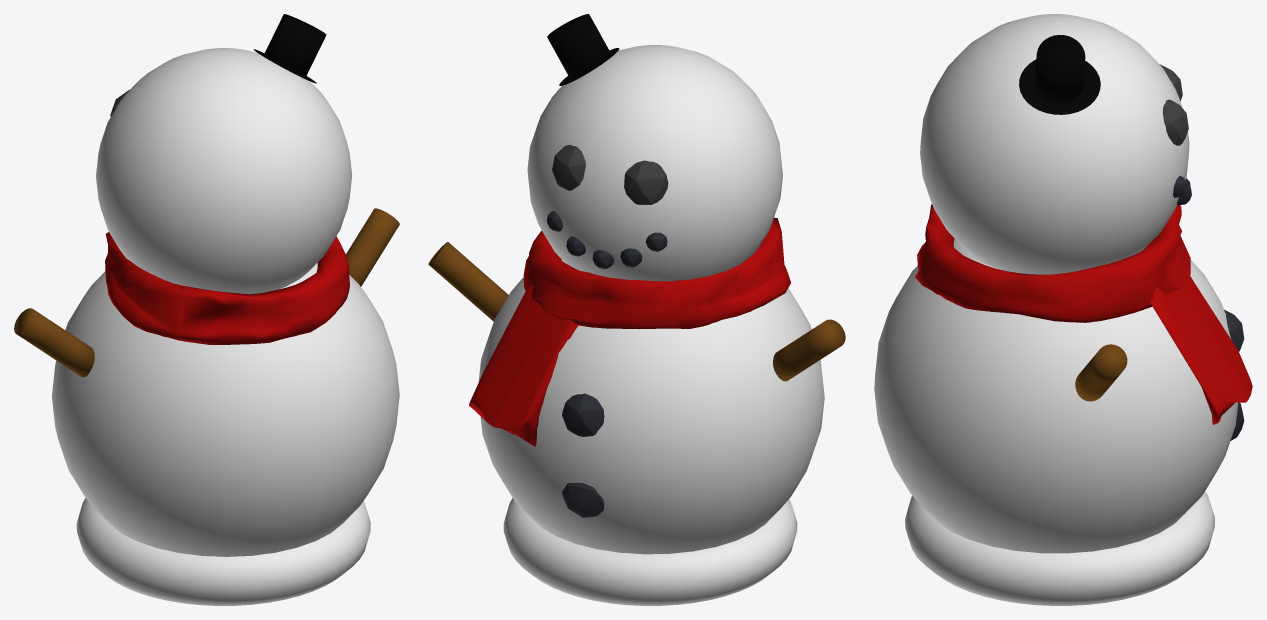
Rendered from snowman_amanda_losneck.glb.
3 views of the same model, side by side, from view 1: azimuth 30°, elevation 25°; view 2: azimuth 150°, elevation 25°; view 3: azimuth 270°, elevation 25° (orthographic). The views are drawn at different scales.
Visible parts, largest first — view 1: body, head, base, scarf, arm, hat; view 2: body, head, scarf, base, arm, eyes, buttons, hat, mouth.001, mouth; view 3: body, head, scarf, base, hat, arm, hat rim, eyes, buttons.
Part boxes in pixels (x1,y1,x2,y2): body: (52, 263, 399, 556); head: (96, 48, 352, 294); base: (76, 498, 370, 605); scarf: (105, 232, 349, 344); arm: (14, 208, 399, 377); hat: (264, 14, 326, 76); body: (478, 259, 824, 554); head: (527, 45, 782, 281); scarf: (469, 217, 790, 446); base: (503, 498, 797, 605); arm: (428, 242, 845, 381); eyes: (552, 145, 668, 204); buttons: (562, 393, 604, 517); hat: (547, 14, 610, 77); mouth.001: (566, 236, 642, 267); mouth: (547, 211, 667, 251); body: (874, 239, 1237, 553); head: (920, 14, 1189, 274); scarf: (915, 204, 1252, 424); base: (905, 491, 1214, 605); hat: (1034, 35, 1085, 104); arm: (1075, 344, 1127, 401); hat rim: (1019, 59, 1100, 114); eyes: (1159, 64, 1188, 145); buttons: (1224, 309, 1244, 440).
Bounding box in the file's own units: 2.63 × 3.3 × 2.06.
